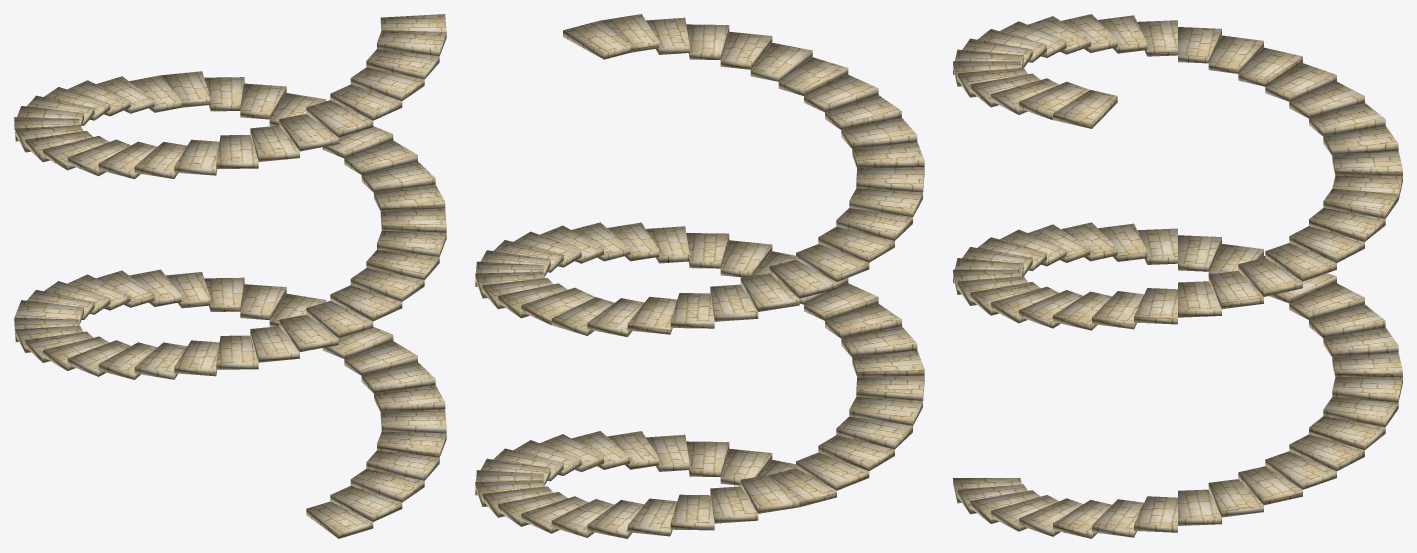
File: canton_circle_staircase.fbx
3 views of the same model, side by side, from view 1: azimuth 30°, elevation 25°; view 2: azimuth 150°, elevation 25°; view 3: azimuth 270°, elevation 25° (orthographic). The views are drawn at different scales.
Parts seen in each view (by area): view 1: canton_circle_staircase; view 2: canton_circle_staircase; view 3: canton_circle_staircase.
Boxes of the visible parts, x1,y1,x2,y2 form: canton_circle_staircase: (14,14,446,538); canton_circle_staircase: (475,14,924,538); canton_circle_staircase: (953,14,1402,538).
Size of what is drawn, in the model's own units: 46.13 by 50.97 by 46.13.
